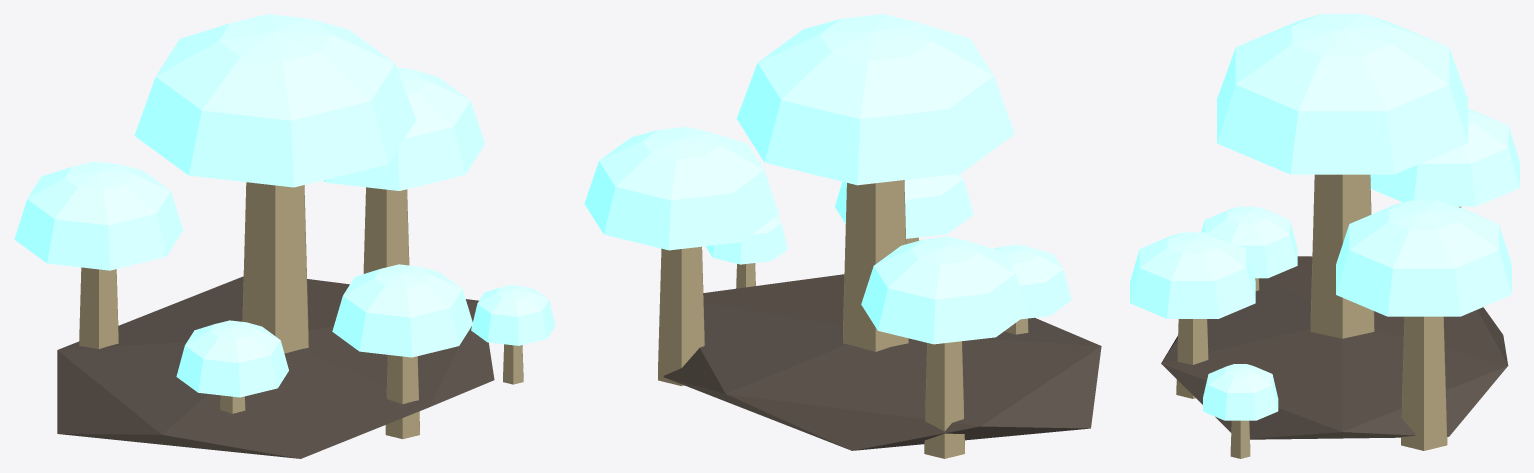
The model's file is mine_mushrooms_glow.glb.
3 views of the same model, side by side, from view 1: azimuth 30°, elevation 25°; view 2: azimuth 150°, elevation 25°; view 3: azimuth 270°, elevation 25° (orthographic). The views are drawn at different scales.
Parts seen in each view (by area): view 1: mine_mushrooms_glow; view 2: mine_mushrooms_glow; view 3: mine_mushrooms_glow.
Part boxes in pixels (left/top/right/bottom): mine_mushrooms_glow: left=14, top=14, right=555, bottom=458; mine_mushrooms_glow: left=584, top=14, right=1101, bottom=458; mine_mushrooms_glow: left=1130, top=14, right=1519, bottom=458.
Size of what is drawn, in the model's own units: 0.7335 by 0.55 by 0.5733.
